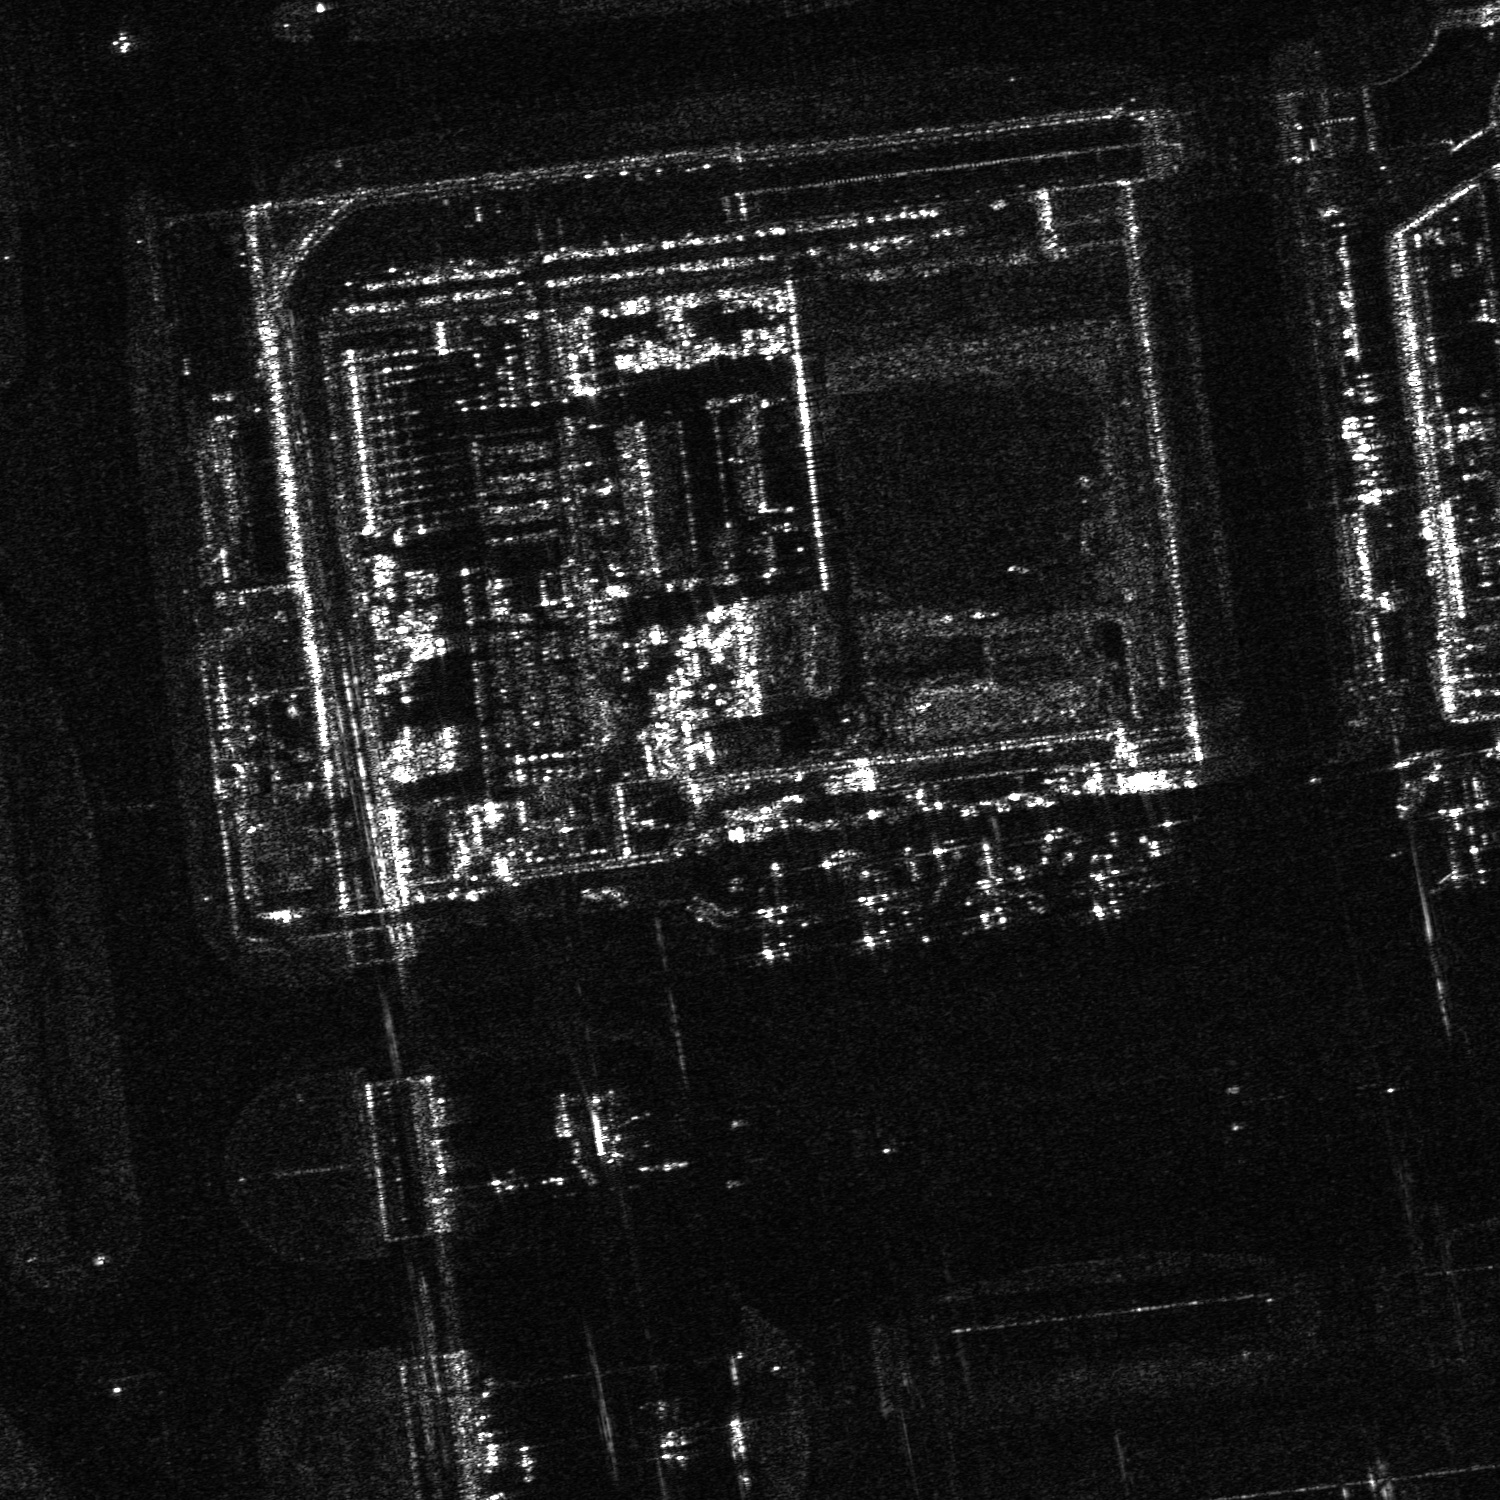Boeing787: (732, 860, 826, 964), (850, 861, 918, 946), (968, 843, 1029, 929), (1078, 838, 1140, 920)
